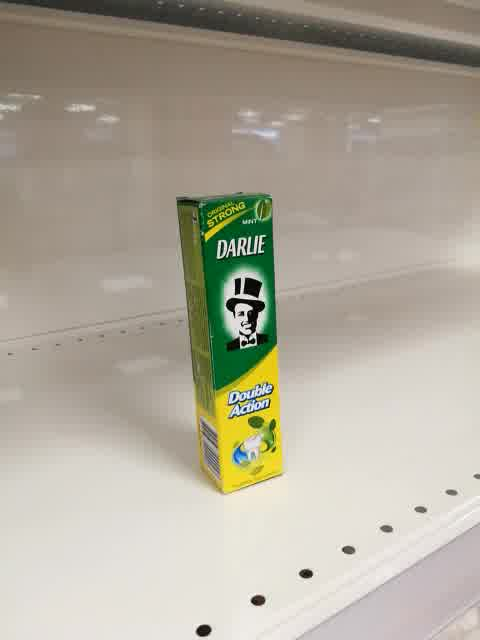toothpaste: (174, 193, 283, 498)
